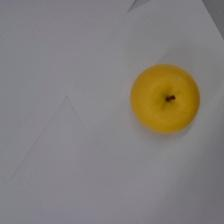yellow: (130, 64, 201, 133)
